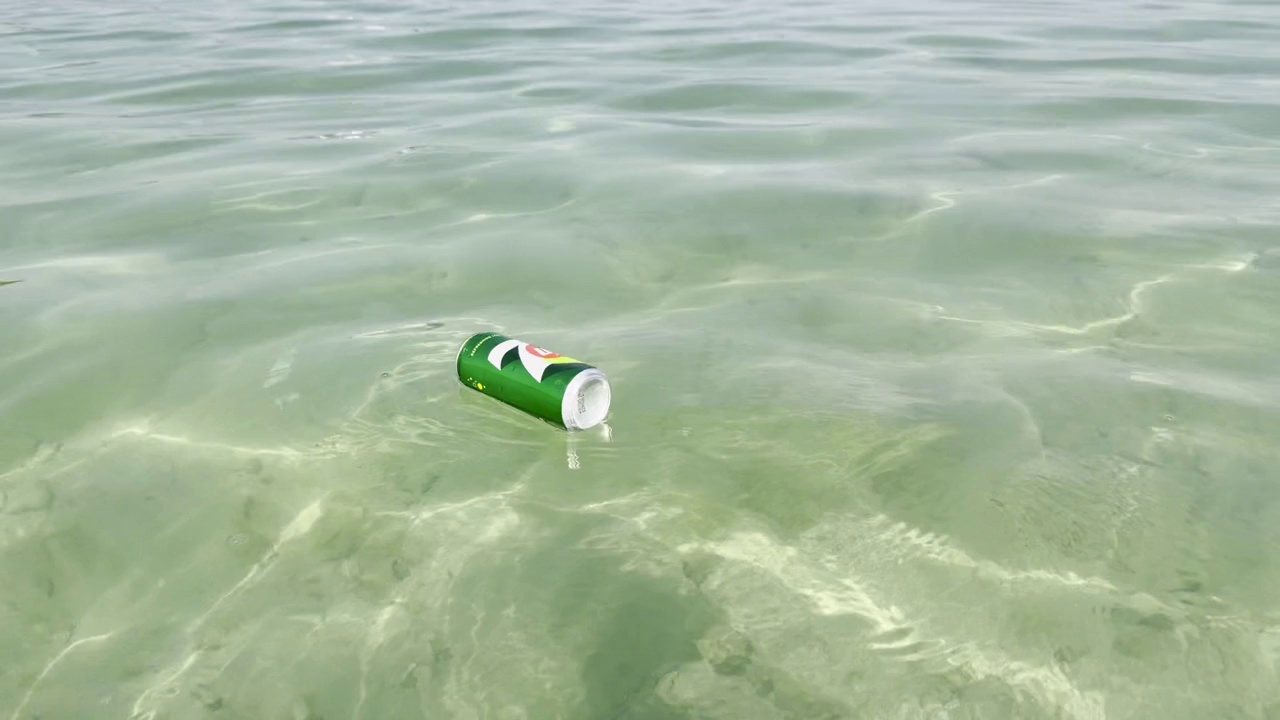debris: (449, 332, 622, 438)
